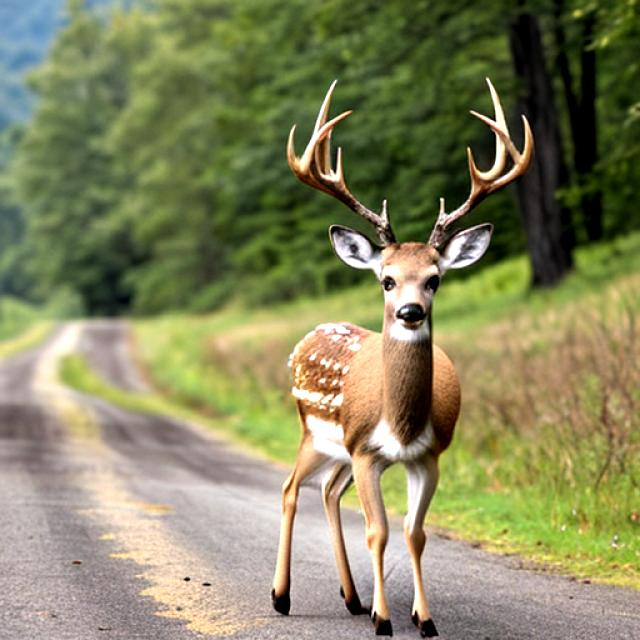deer: (239, 79, 529, 640)
